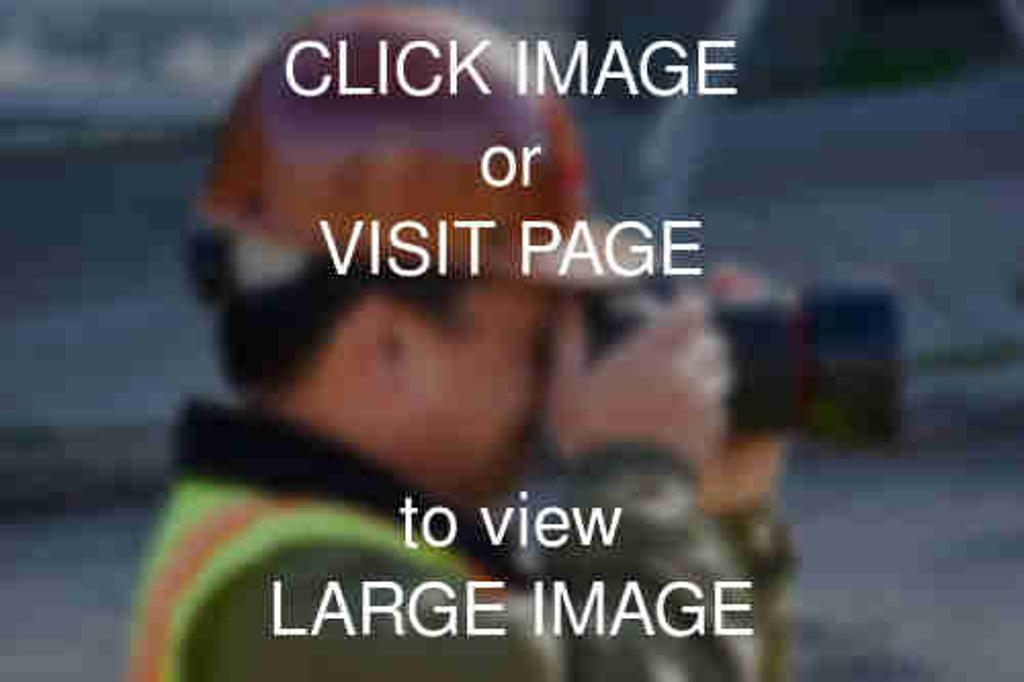face: (304, 184, 536, 474)
